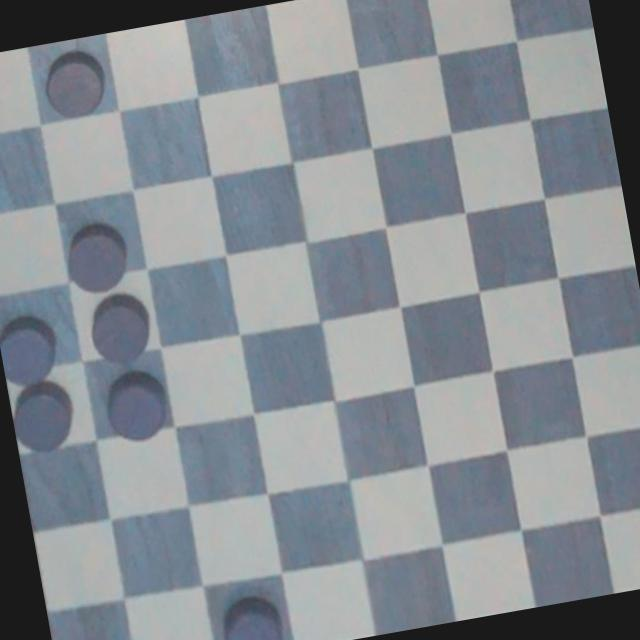BOARD: (0, 0, 640, 640)
black: (92, 366, 181, 451), (72, 292, 160, 373), (34, 46, 119, 124), (61, 216, 134, 300), (10, 382, 81, 464), (0, 308, 67, 387), (208, 584, 295, 640)
